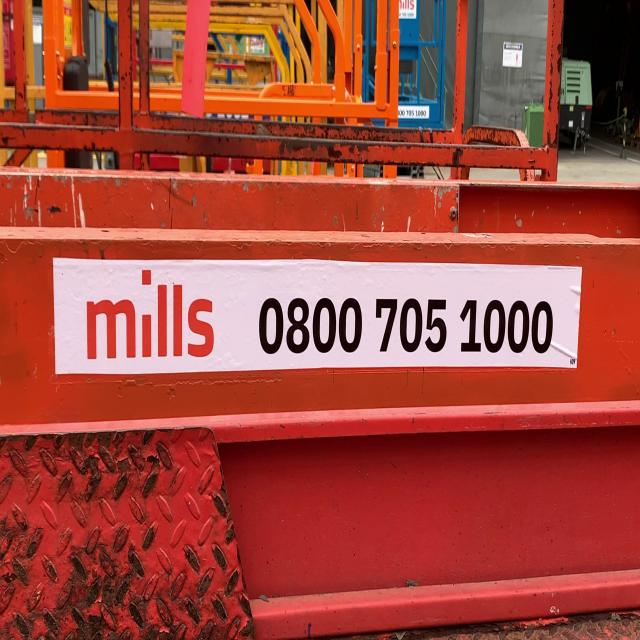Adesivo Longo: (50, 253, 584, 378)
